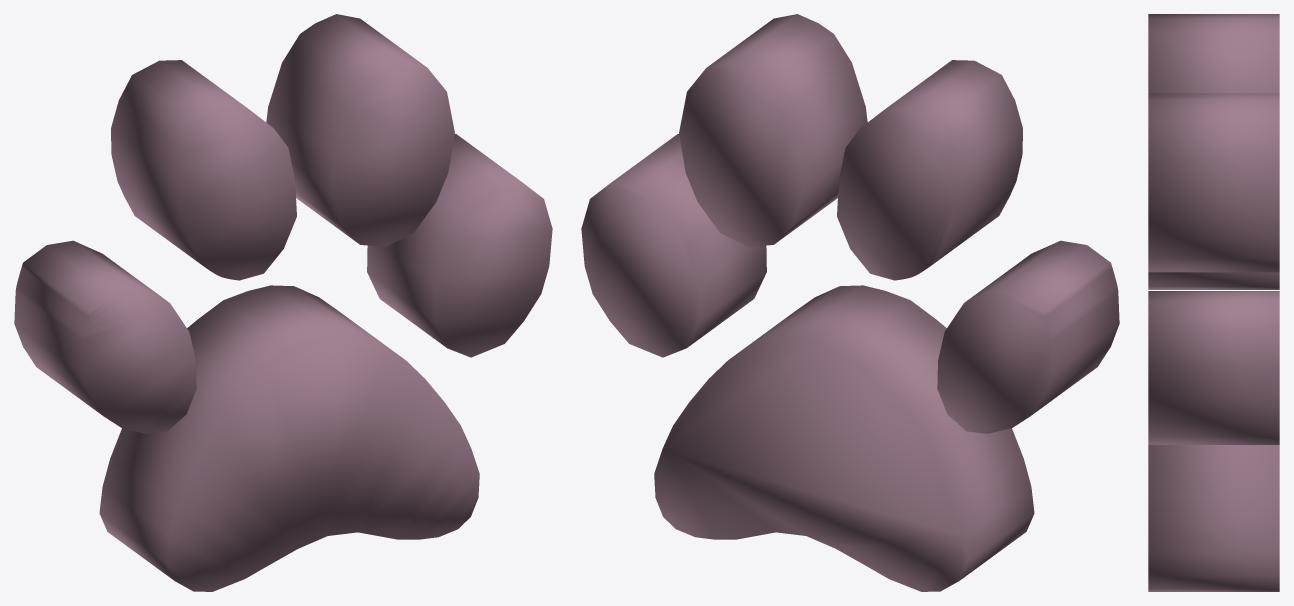
File: paw.glb
The picture shows the model from 3 angles, left to right: view 1: azimuth 30°, elevation 25°; view 2: azimuth 150°, elevation 25°; view 3: azimuth 270°, elevation 25°; orthographic projection. The views are drawn at different scales.
Parts seen in each view (by area): view 1: ColorMaterial; view 2: ColorMaterial; view 3: ColorMaterial.
Boxes of the visible parts, <box> form: ColorMaterial: <box>14,14,552,591</box>; ColorMaterial: <box>581,14,1119,591</box>; ColorMaterial: <box>1148,14,1279,591</box>.
Size of the model in its own units: 4.03 by 3.94 by 1.
